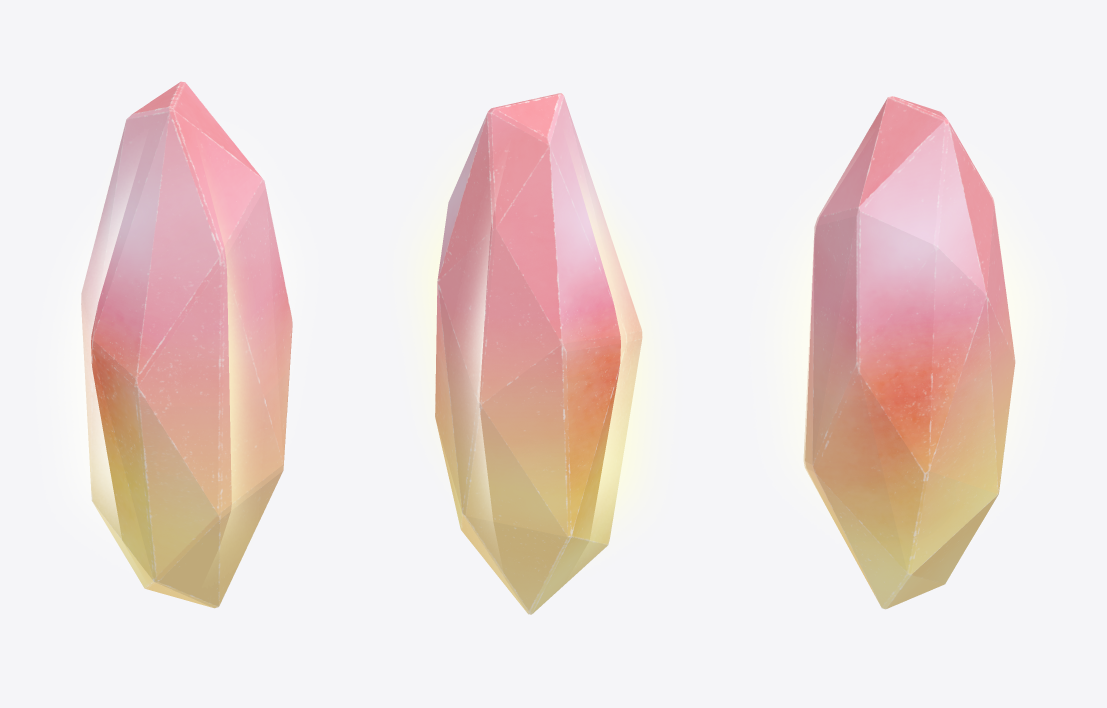
File: gem-C-ok.glb
3 renders of one model, left to right at view 1: azimuth 30°, elevation 25°; view 2: azimuth 150°, elevation 25°; view 3: azimuth 270°, elevation 25°, orthographic. The views are drawn at different scales.
Visible parts, largest first — view 1: C, light; view 2: C, light; view 3: C, light.
Boxes of the visible parts, <box> form: C: <box>81,81,292,608</box>; light: <box>48,145,305,555</box>; C: <box>435,93,642,614</box>; light: <box>406,149,663,552</box>; C: <box>803,96,1015,609</box>; light: <box>764,166,1052,520</box>.
Size of the model in its own units: 3.41 by 5.39 by 3.41.
2 materials, 2 textured.
